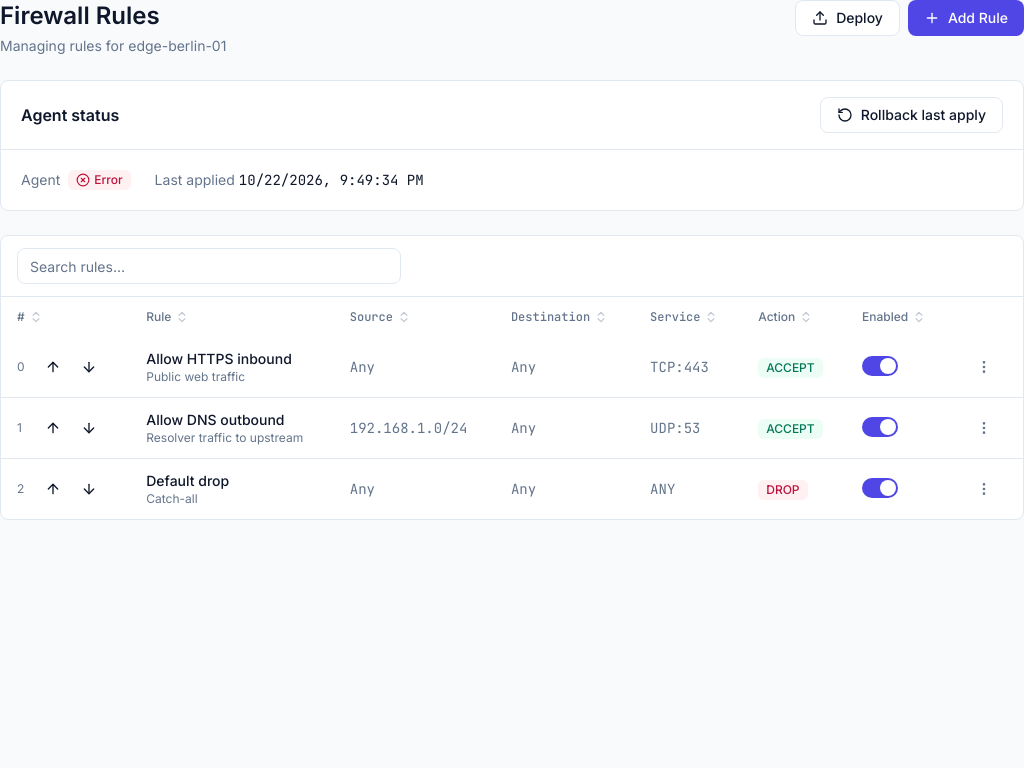
Scenario: FirewallRules › Switch toggle opens a warning confirm dialog
Expected: the text "Allow HTTPS inbound" is shown, [146,350,292,367]
Click the switch named "Disable rule Allow HTTPS inbound" at (880, 366), box [862,356,898,376]
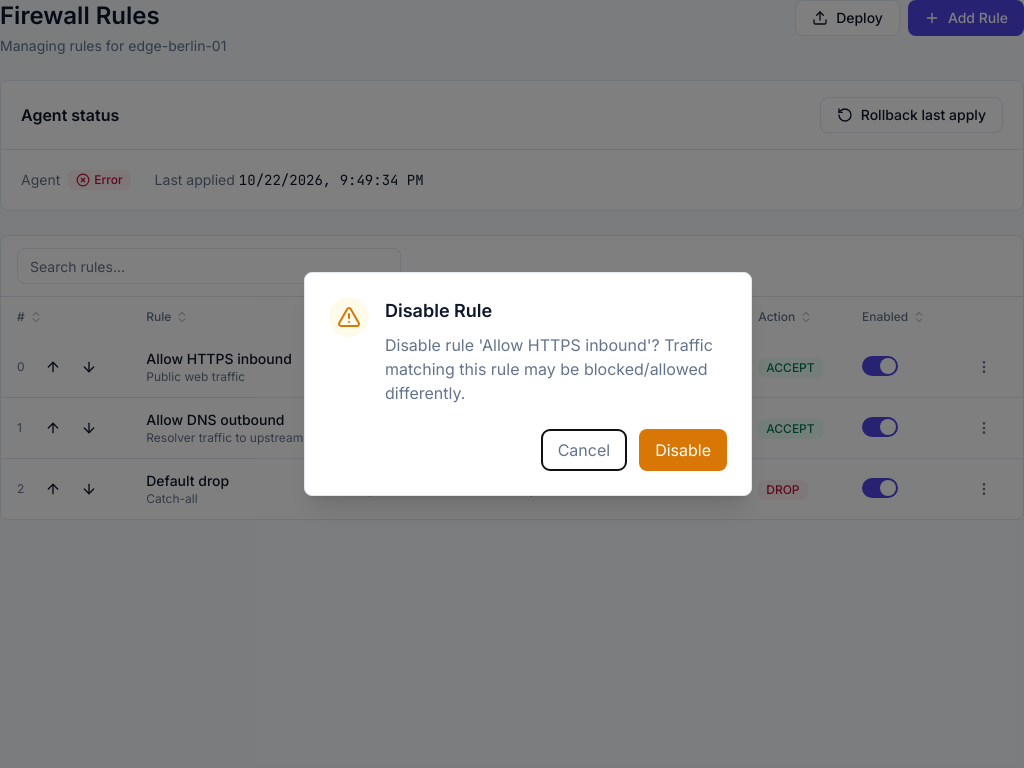
Now the dialog shows "Disable Rule", box [385,300,492,321]
Now the dialog shows "Traffic matching this rule may be blocked", box [385,335,713,403]
